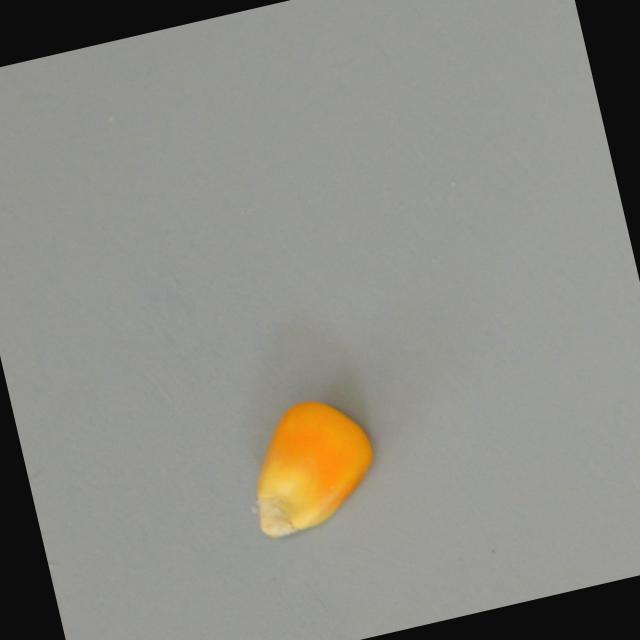entero: (226, 385, 392, 546)
